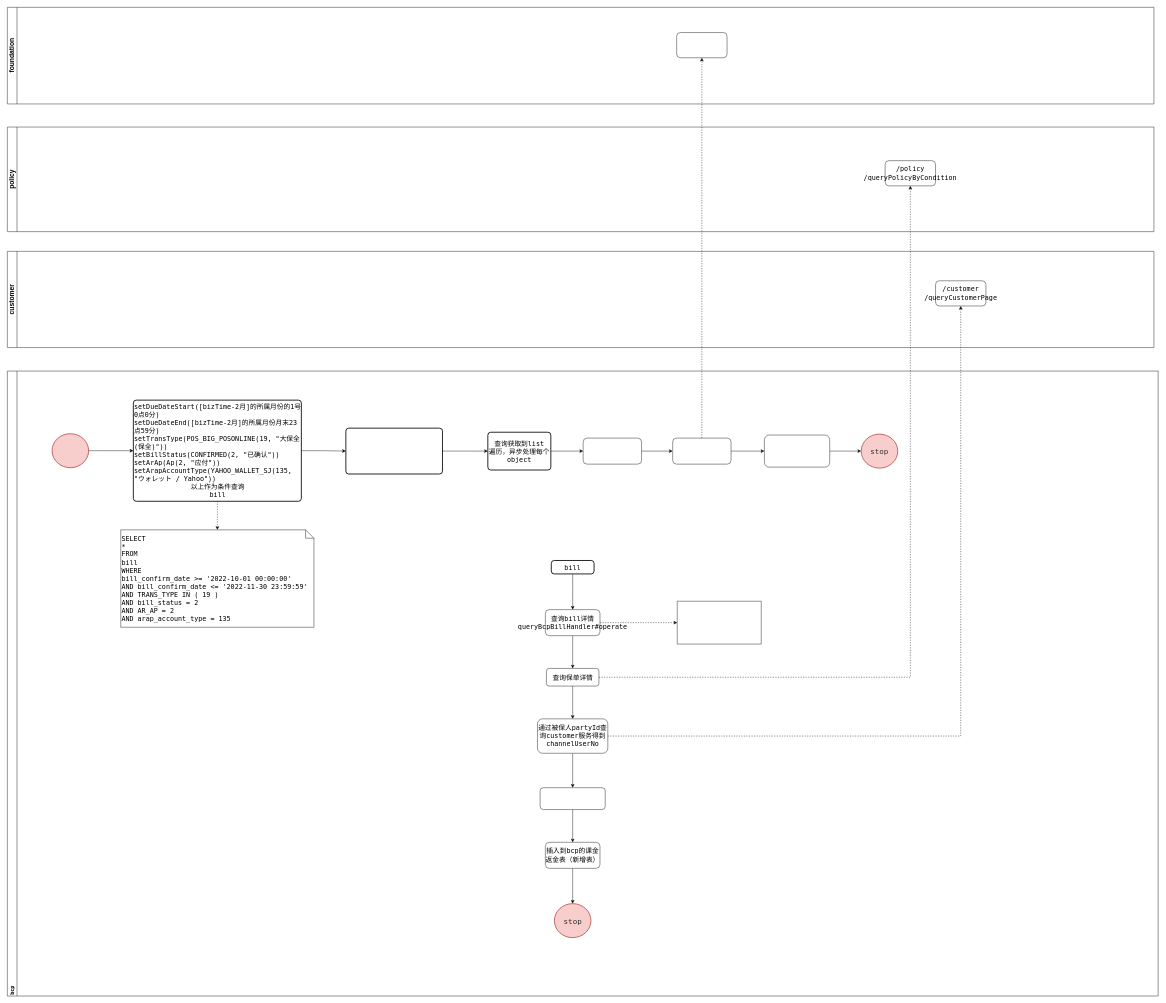
This 1166x1003 diagram has some shape labels left out. Each missing label, with the box of its shape:
/file /operate: (676, 32, 727, 58)
bill receivable_payable bcp_ext_info: (677, 601, 761, 644)
作成tsv文件上传Graphene-S3: (672, 438, 731, 464)
每页最大的ID，以每页limit1000为基准，分页查询，按id正序排序，取每页最后一条记录更新maxIdValue，作为下一个分页查询的条件: (345, 428, 443, 474)
组装返金数据: (540, 787, 605, 810)
经过GPG格式加密并作成tsv文件上传Yahoo-文件服务器: (764, 435, 830, 467)
返金数据汇总: (583, 438, 642, 464)
雅虎课金文件作成: (51, 433, 89, 468)
